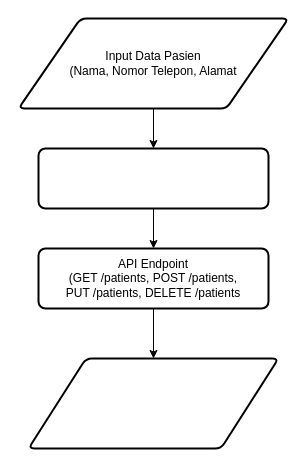
This 306x466 diagram has some shape labels left out. The box of each missing label's shape, as (x1, y1, x2, y2) in pixels:
Kirim Response JSON ke Frontend: (27, 357, 279, 449)
Simpan ke Database (patients): (37, 147, 269, 209)
